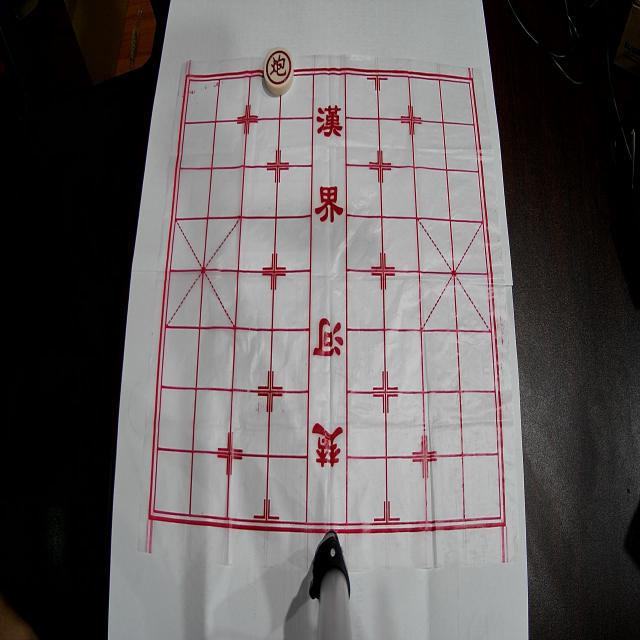red-cannon: (264, 46, 294, 96)
